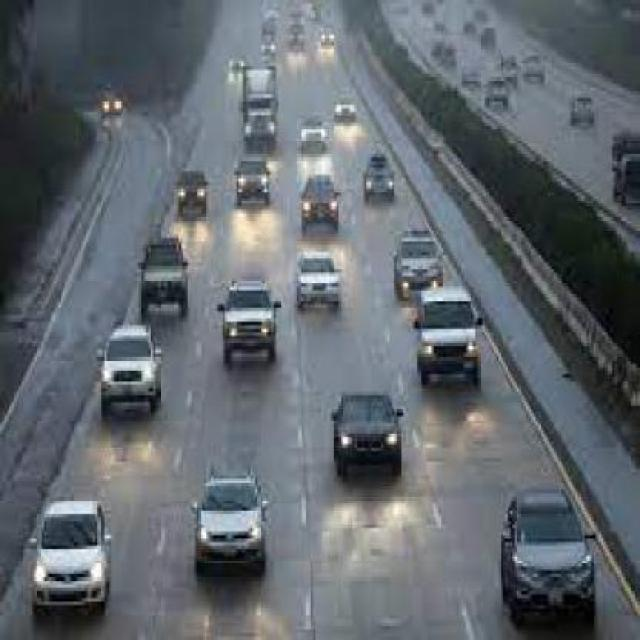vehicle: (495, 478, 607, 636), (182, 442, 276, 582), (28, 496, 112, 624), (324, 377, 414, 490), (212, 264, 290, 370), (98, 310, 166, 424)
